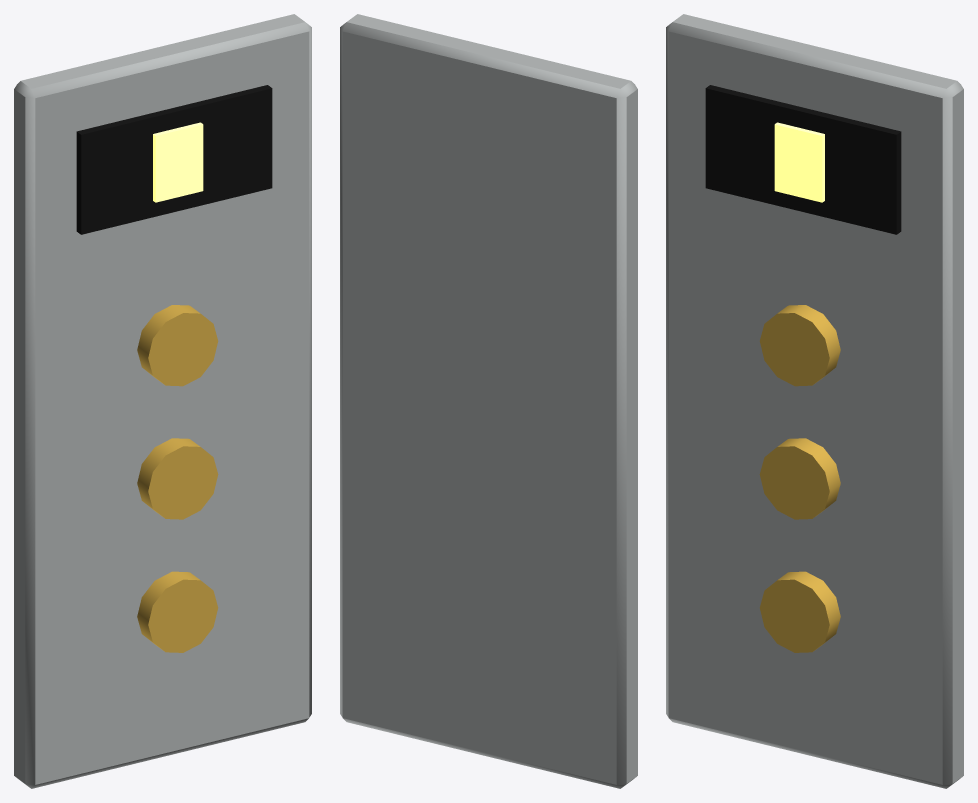
File: lift_panel.glb
3 views of the same model, side by side, from view 1: azimuth 30°, elevation 25°; view 2: azimuth 150°, elevation 25°; view 3: azimuth 330°, elevation 25° (orthographic).
Parts seen in each view (by area): view 1: LiftPanel; view 2: LiftPanel; view 3: LiftPanel.
Part boxes in pixels (x1,y1,x2,y2): LiftPanel: [14, 14, 311, 788]; LiftPanel: [340, 14, 637, 788]; LiftPanel: [666, 14, 963, 788].
Size of the model in its own units: 0.18 by 0.42 by 0.032.
